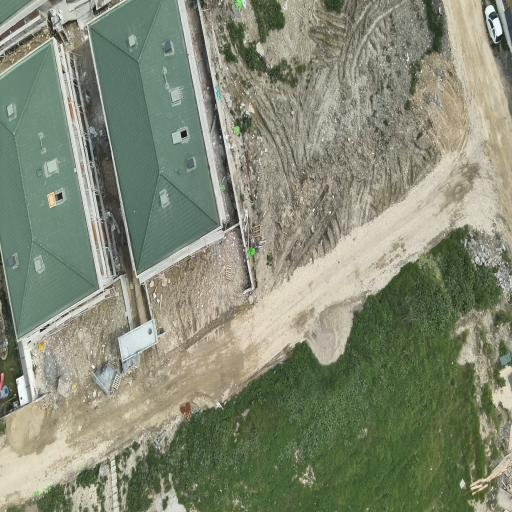car: (485, 6, 502, 43)
